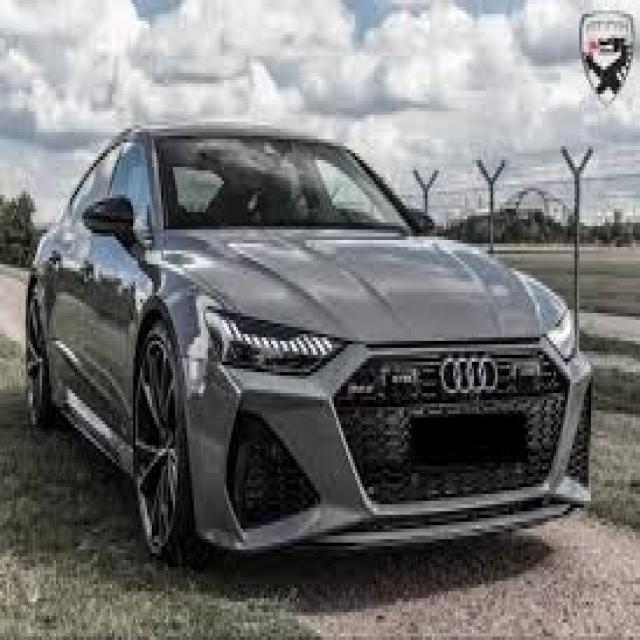Car: (26, 127, 591, 563)
